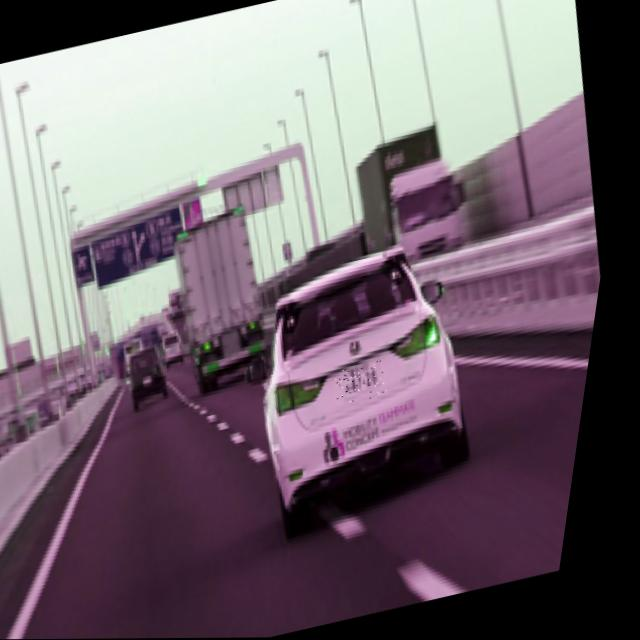license_plate: (339, 358, 402, 407)
